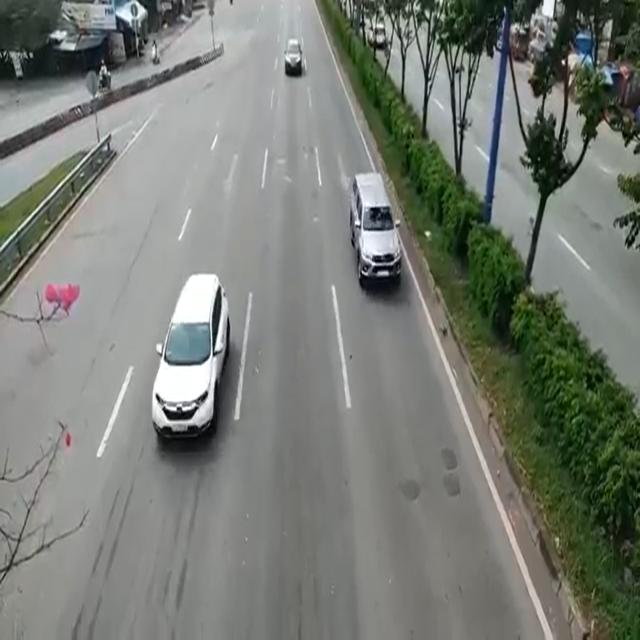car: (160, 277, 220, 442), (348, 175, 402, 292), (285, 38, 300, 77)
